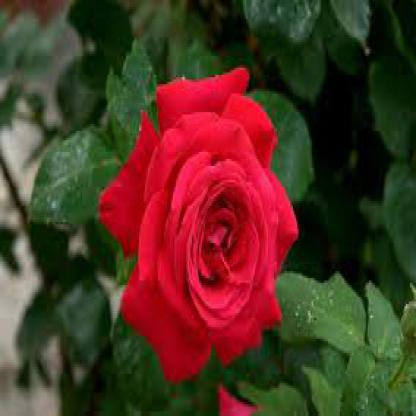Rose-Mawar: (99, 64, 303, 380)
